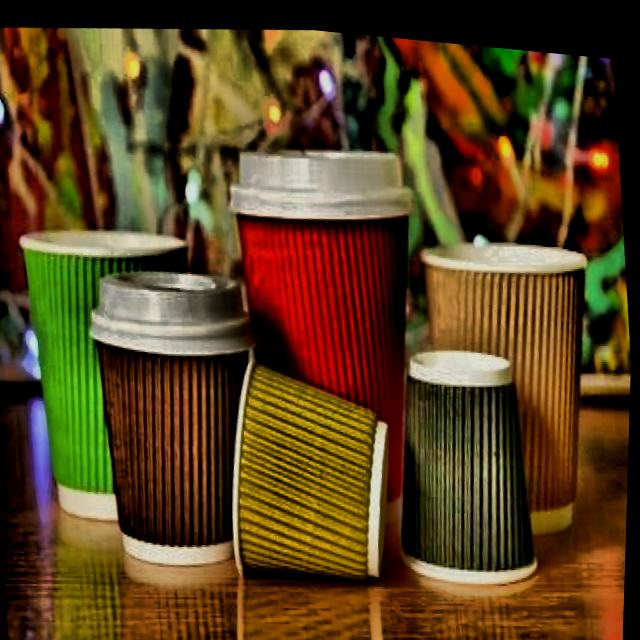Cup: (201, 114, 443, 537), (8, 203, 215, 541), (411, 203, 601, 531), (84, 250, 271, 579), (221, 334, 404, 595), (396, 324, 556, 596)
